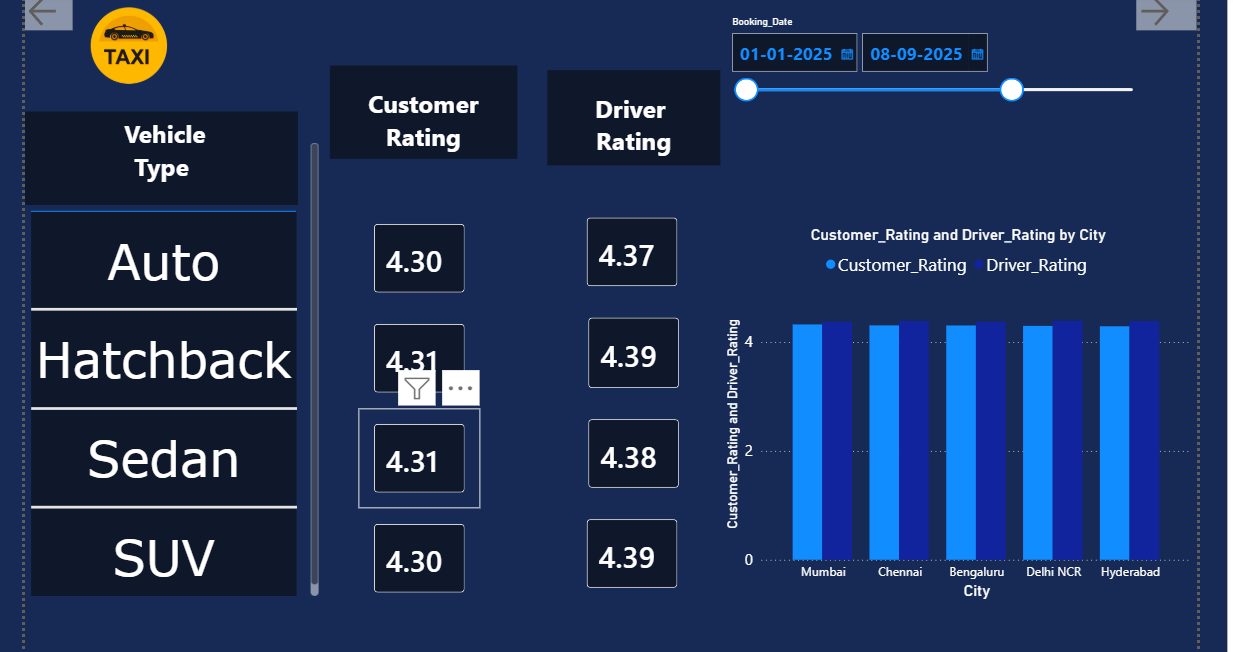

This screenshot's page, from the dashboard's own definition file:
{"tool":"powerbi","page":{"name":"Review","canvas":[1280,720],"ordinal":5},"visuals":[{"type":"tableEx","fields":{"Values":["Vehicles.Vehicle_Type"]},"box":[0,157.7,325.8,504.4],"z":0},{"type":"textbox","box":[332.5,78,204.5,102.3],"z":1000},{"type":"cardVisual","fields":{"Data":["Avg(Trips.Customer_Rating)"]},"box":[363.5,234,134,109.4],"z":2000},{"type":"cardVisual","fields":{"Data":["Avg(Trips.Driver_Rating)"]},"box":[596.3,226.8,134,109.4],"z":3000},{"type":"cardVisual","fields":{"Data":["Avg(Trips.Driver_Rating)"]},"box":[598.2,336.2,134,111.3],"z":4000},{"type":"cardVisual","fields":{"Data":["Avg(Trips.Driver_Rating)"]},"box":[598.2,447.6,134,109.4],"z":5000},{"type":"cardVisual","fields":{"Data":["Avg(Trips.Driver_Rating)"]},"box":[596.3,557,134,109.4],"z":6000},{"type":"textbox","box":[570.3,83.2,188.9,104],"z":7000},{"type":"cardVisual","fields":{"Data":["Avg(Trips.Customer_Rating)"]},"box":[363.5,343.5,134,109.4],"z":8000},{"type":"cardVisual","fields":{"Data":["Avg(Trips.Customer_Rating)"]},"box":[363.5,452.9,134,109.4],"z":9000},{"type":"cardVisual","fields":{"Data":["Avg(Trips.Customer_Rating)"]},"box":[363.5,562.3,134,109.4],"z":10000},{"type":"textbox","box":[0,128.3,298.1,102.3],"z":11000},{"type":"image","box":[52,0,123.1,112.7],"z":12000},{"type":"clusteredColumnChart","fields":{"Category":["Drivers.City"],"Y":["Avg(Trips.Customer_Rating)","Avg(Trips.Driver_Rating)"]},"box":[759.2,253.1,520,412.5],"z":13000},{"type":"slicer","fields":{"Values":["Trips.Booking_Date"]},"box":[759.2,19.1,471.5,138.7],"z":14000},{"type":"actionButton","box":[0,0,52,39.9],"z":15000},{"type":"actionButton","box":[1213.3,0,65.9,39.9],"z":16000}]}

Visuals, with their boxes on the page's 1280x720 design canvas (x1, y1, x2, y2). These are canvas units, not pixel positions in the 1233x652 screenshot, which may show the page scaled, cropped or inside an application window:
tableEx - Vehicles.Vehicle_Type: rect(0, 158, 326, 662)
textbox: rect(332, 78, 537, 180)
cardVisual - Avg(Trips.Customer_Rating): rect(364, 234, 498, 343)
cardVisual - Avg(Trips.Driver_Rating): rect(596, 227, 730, 336)
cardVisual - Avg(Trips.Driver_Rating): rect(598, 336, 732, 448)
cardVisual - Avg(Trips.Driver_Rating): rect(598, 448, 732, 557)
cardVisual - Avg(Trips.Driver_Rating): rect(596, 557, 730, 666)
textbox: rect(570, 83, 759, 187)
cardVisual - Avg(Trips.Customer_Rating): rect(364, 344, 498, 453)
cardVisual - Avg(Trips.Customer_Rating): rect(364, 453, 498, 562)
cardVisual - Avg(Trips.Customer_Rating): rect(364, 562, 498, 672)
textbox: rect(0, 128, 298, 231)
image: rect(52, 0, 175, 113)
clusteredColumnChart - Drivers.City x Avg(Trips.Customer_Rating): rect(759, 253, 1279, 666)
slicer - Trips.Booking_Date: rect(759, 19, 1231, 158)
actionButton: rect(0, 0, 52, 40)
actionButton: rect(1213, 0, 1279, 40)
